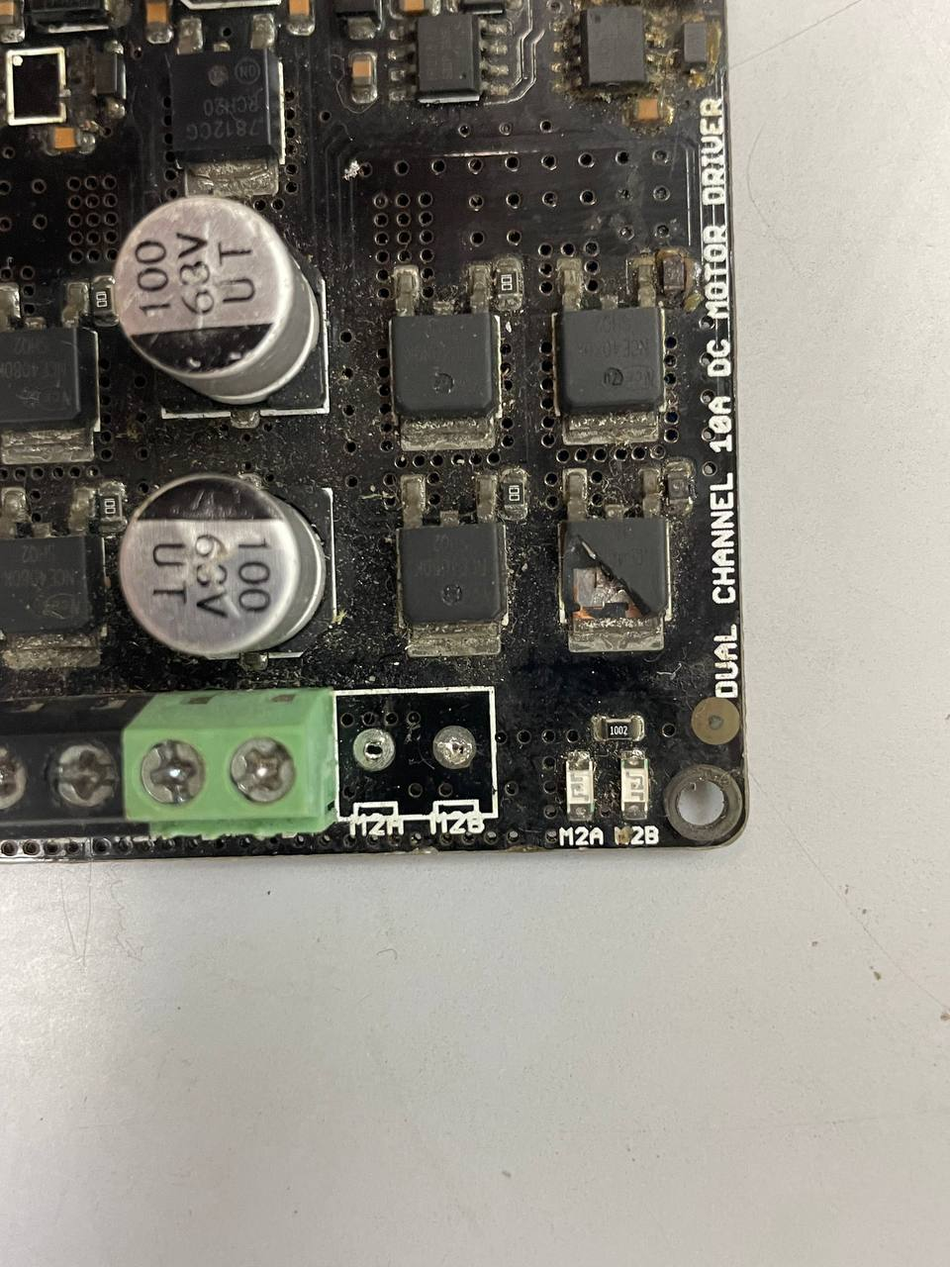broken_comp: (556, 505, 675, 634)
missing_comp: (6, 45, 69, 127)
missing_tb: (331, 683, 498, 837)
